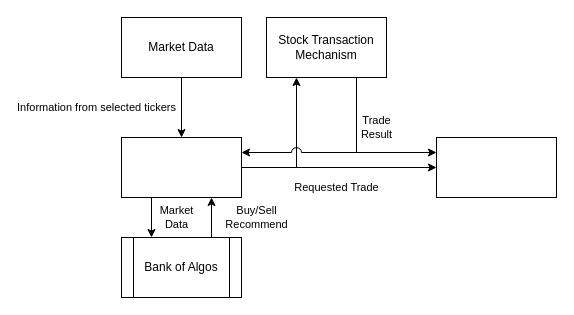
The diagram is 574 pixels wide and 315 high, and some of its shapes have lost their labels. Each missing label, with the box of its shape:
Algo Selector/Weighter: (120, 136, 242, 198)
Reporting Interface (G Sheet/ discord): (436, 136, 556, 198)
